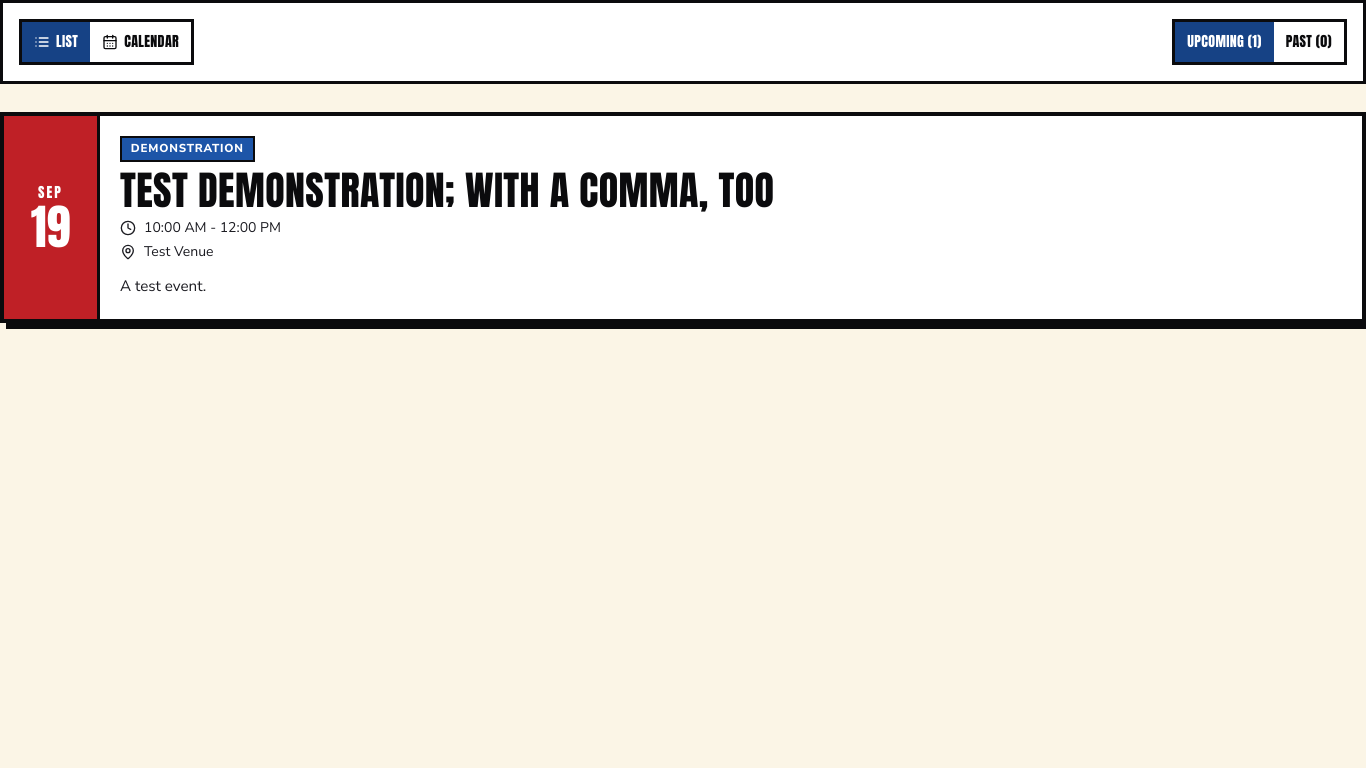
it: events browser › switches to the calendar view
Click the button "Calendar". click: (141, 42)
box: [90,22,191,62]
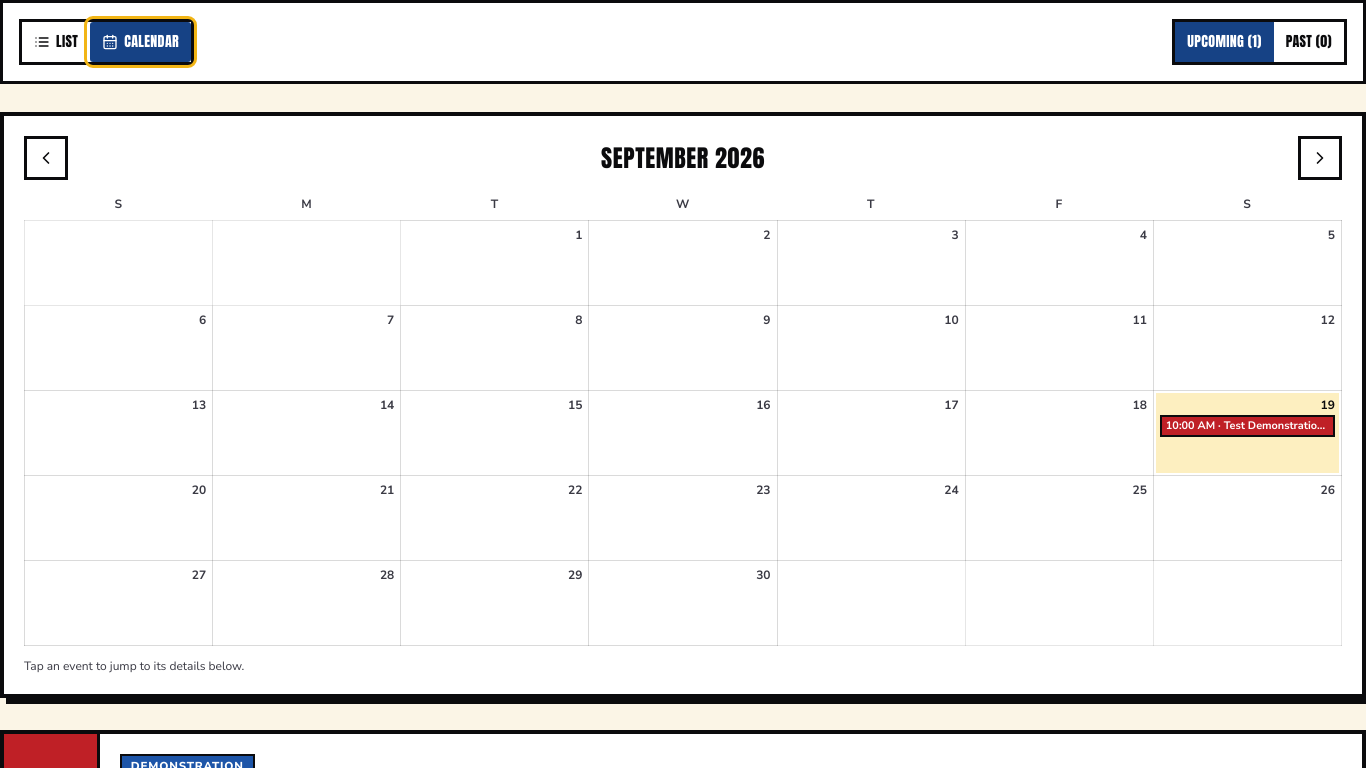
Expected: the table is shown, [24,196,1342,646]
